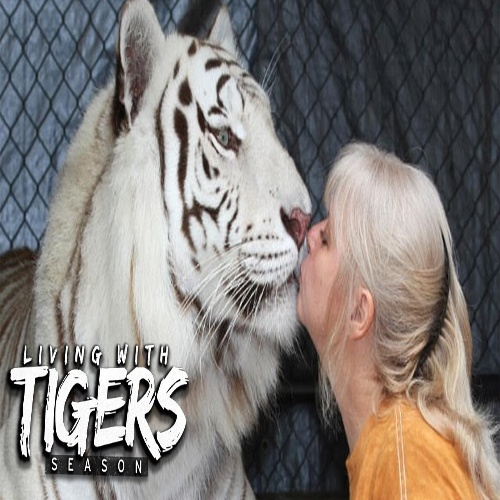tiger: (54, 9, 307, 399)
